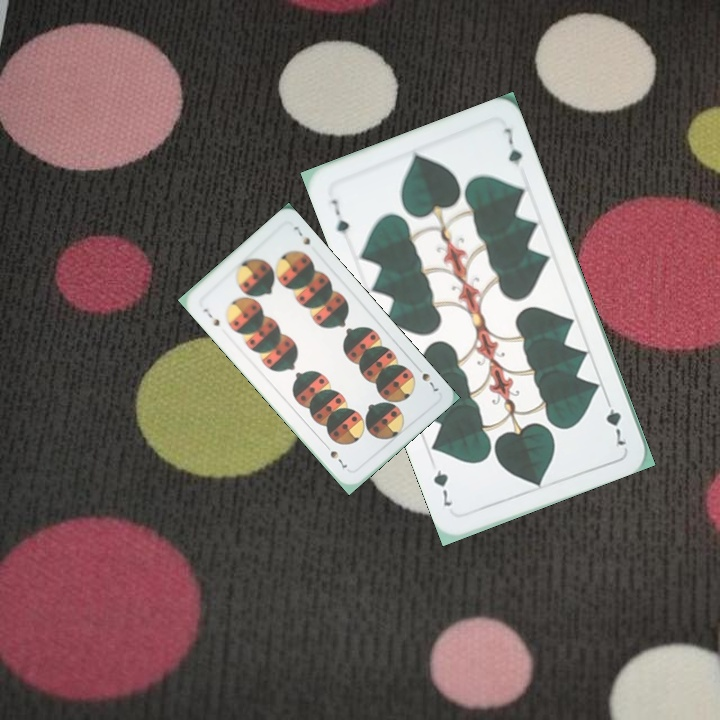G7: (601, 392, 629, 450), (327, 195, 352, 237)
S7: (411, 361, 441, 394), (199, 304, 222, 329)
